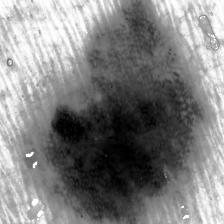Benign Marking or Mole: (34, 9, 199, 216)
